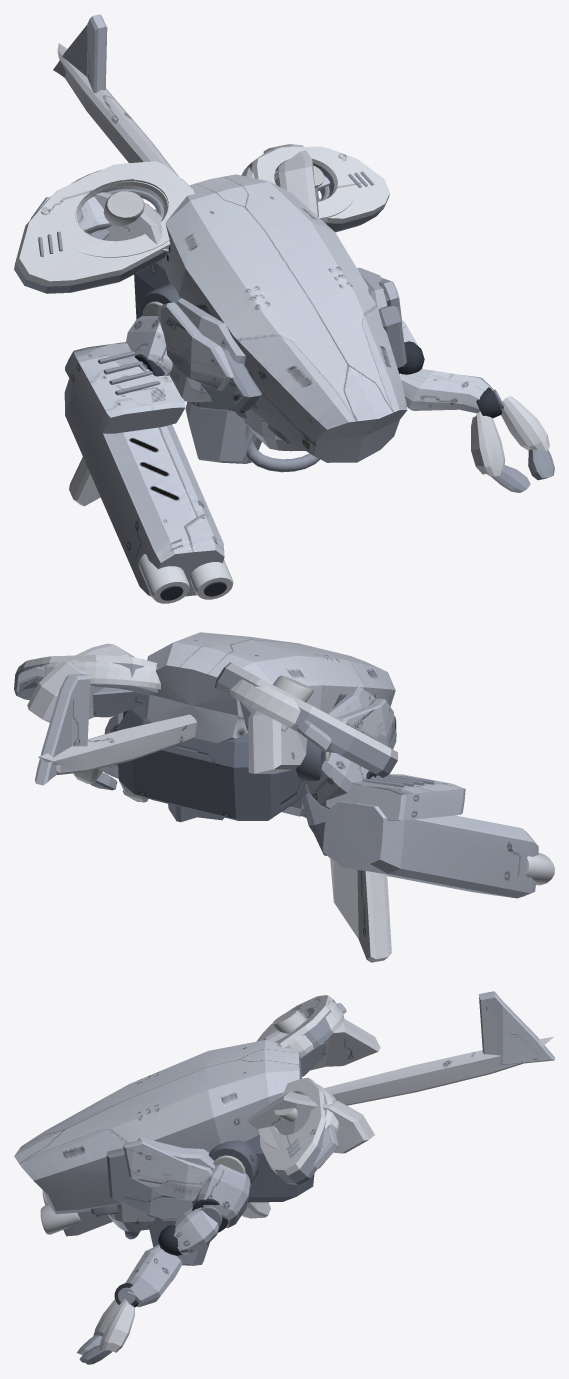
Rendered from compare-nine-cirrus-v1.glb.
3 renders of one model, top to bottom at view 1: azimuth 30°, elevation 25°; view 2: azimuth 150°, elevation 25°; view 3: azimuth 270°, elevation 25°, orthographic. The views are drawn at different scales.
Visible parts, largest first — view 1: Long white prow, Twin white gun shroud, Swept annular fan housing, Stepped gun breech cover, Swept annular fan housing 2, Prow cheek overlap, Tail boom, Layered belly apron, Claw armored forearm, Rising tail rudder, Layered cheek petal, Arched white nacelle (+15 smaller); view 2: Twin white gun shroud, Long white prow, Shoulder transmission, Tail boom, Hanging stabilizer talon, Swept annular fan housing, Stepped gun breech cover, Rising tail rudder, Swept nacelle outer case, Swept nacelle outer case 2, Hanging shoulder facet, Arched white nacelle (+12 smaller); view 3: Long white prow, Tail boom, Swept annular fan housing 2, Prow cheek overlap 2, Rising tail rudder, Swept nacelle outer case 2, Faceted prow side shell 2, Claw armored forearm, Hanging shoulder facet 2, Swept nacelle outer case, Shoulder transmission, Swept annular fan housing (+14 smaller).
Part boxes in pixels (x1=…): Long white prow: x1=160, y1=174, x2=407, y2=462; Twin white gun shroud: x1=64, y1=379, x2=224, y2=596; Swept annular fan housing: x1=14, y1=161, x2=194, y2=293; Stepped gun breech cover: x1=65, y1=342, x2=185, y2=433; Swept annular fan housing 2: x1=246, y1=146, x2=389, y2=232; Prow cheek overlap: x1=157, y1=302, x2=234, y2=390; Tail boom: x1=57, y1=43, x2=178, y2=176; Layered belly apron: x1=185, y1=401, x2=261, y2=463; Claw armored forearm: x1=399, y1=369, x2=493, y2=413; Rising tail rudder: x1=53, y1=14, x2=107, y2=92; Layered cheek petal: x1=169, y1=298, x2=245, y2=401; Arched white nacelle: x1=71, y1=169, x2=190, y2=257; Twin white gun shroud: x1=322, y1=801, x2=538, y2=898; Long white prow: x1=145, y1=632, x2=395, y2=742; Shoulder transmission: x1=116, y1=704, x2=307, y2=820; Tail boom: x1=38, y1=714, x2=197, y2=774; Hanging stabilizer talon: x1=330, y1=858, x2=391, y2=962; Swept annular fan housing: x1=214, y1=662, x2=397, y2=777; Stepped gun breech cover: x1=326, y1=774, x2=465, y2=821; Rising tail rudder: x1=35, y1=673, x2=90, y2=785; Swept nacelle outer case: x1=248, y1=709, x2=307, y2=774; Swept nacelle outer case 2: x1=27, y1=643, x2=134, y2=722; Hanging shoulder facet: x1=305, y1=752, x2=373, y2=809; Arched white nacelle: x1=215, y1=668, x2=345, y2=727; Long white prow: x1=14, y1=1040, x2=301, y2=1214; Tail boom: x1=324, y1=1036, x2=553, y2=1105; Swept annular fan housing 2: x1=260, y1=1077, x2=326, y2=1184; Prow cheek overlap 2: x1=123, y1=1139, x2=212, y2=1200; Rising tail rudder: x1=479, y1=991, x2=554, y2=1064; Swept nacelle outer case 2: x1=246, y1=1091, x2=374, y2=1153; Faceted prow side shell 2: x1=106, y1=1148, x2=192, y2=1219; Claw armored forearm: x1=125, y1=1244, x2=182, y2=1307; Hanging shoulder facet 2: x1=192, y1=1164, x2=250, y2=1227; Swept nacelle outer case: x1=264, y1=1018, x2=380, y2=1070; Shoulder transmission: x1=245, y1=1135, x2=314, y2=1202; Swept annular fan housing: x1=256, y1=995, x2=338, y2=1058.
Size of the model in its own units: 2.7 by 2.16 by 3.49.
Materials: 1 (1 with a texture image).
